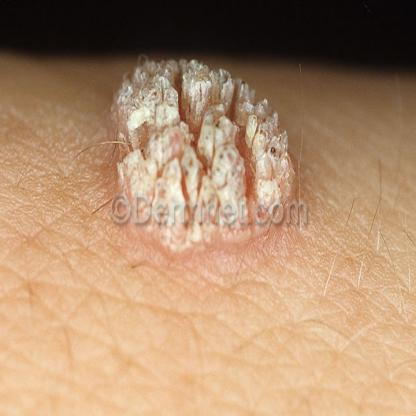Warts: (107, 58, 299, 196)
